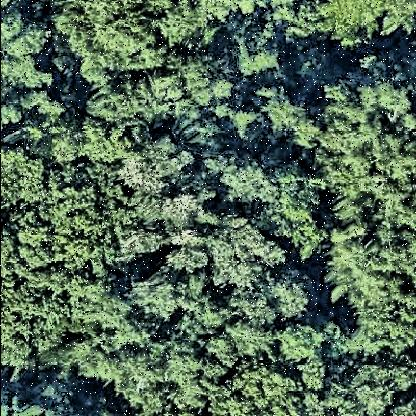tree-top: (1, 163, 113, 369), (314, 77, 416, 219), (54, 1, 213, 80), (329, 220, 416, 339), (208, 211, 284, 297), (122, 254, 194, 342), (327, 353, 416, 416), (209, 361, 305, 416), (271, 168, 329, 254), (2, 11, 62, 93), (321, 1, 412, 49), (265, 87, 323, 152), (207, 154, 276, 205), (267, 267, 318, 324), (276, 318, 329, 369), (233, 33, 286, 75)
